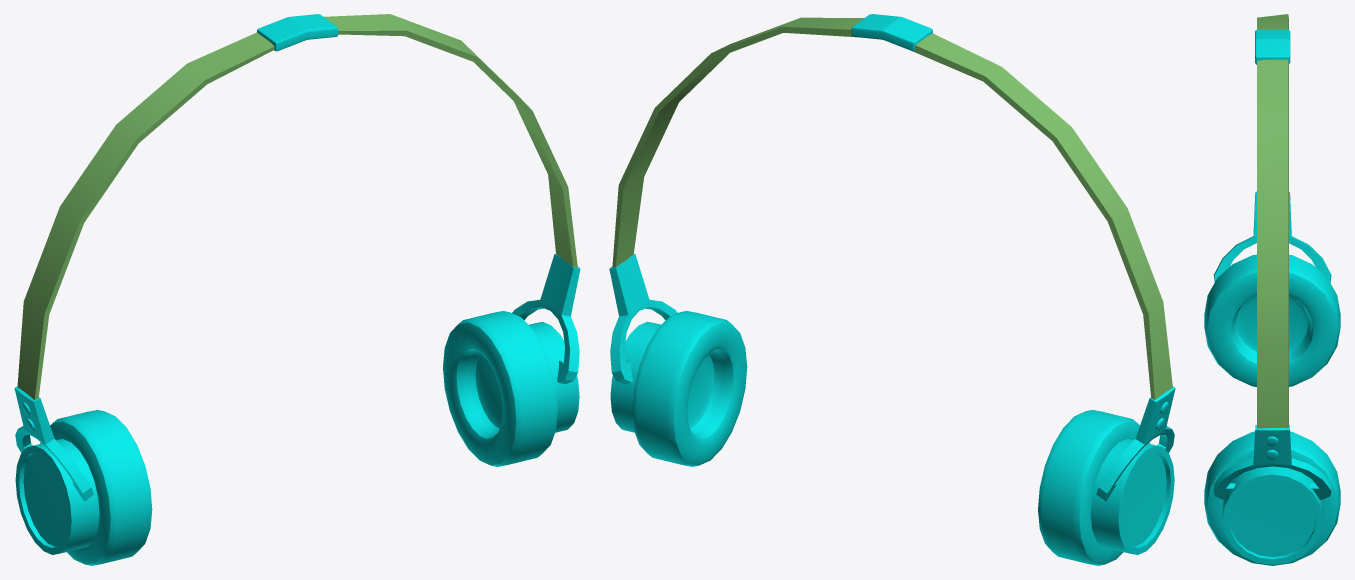
Rendered from Low_Headphones.fbx.
3 views of the same model, side by side, from view 1: azimuth 30°, elevation 25°; view 2: azimuth 150°, elevation 25°; view 3: azimuth 270°, elevation 25° (orthographic). The views are drawn at different scales.
Parts seen in each view (by area): view 1: headphones; view 2: headphones; view 3: headphones.
Boxes of the visible parts, x1,y1,x2,y2 form: headphones: [14, 14, 580, 565]; headphones: [609, 14, 1175, 565]; headphones: [1204, 14, 1340, 565].
Size of what is drawn, in the model's own units: 23.23 by 19.57 by 5.6.
